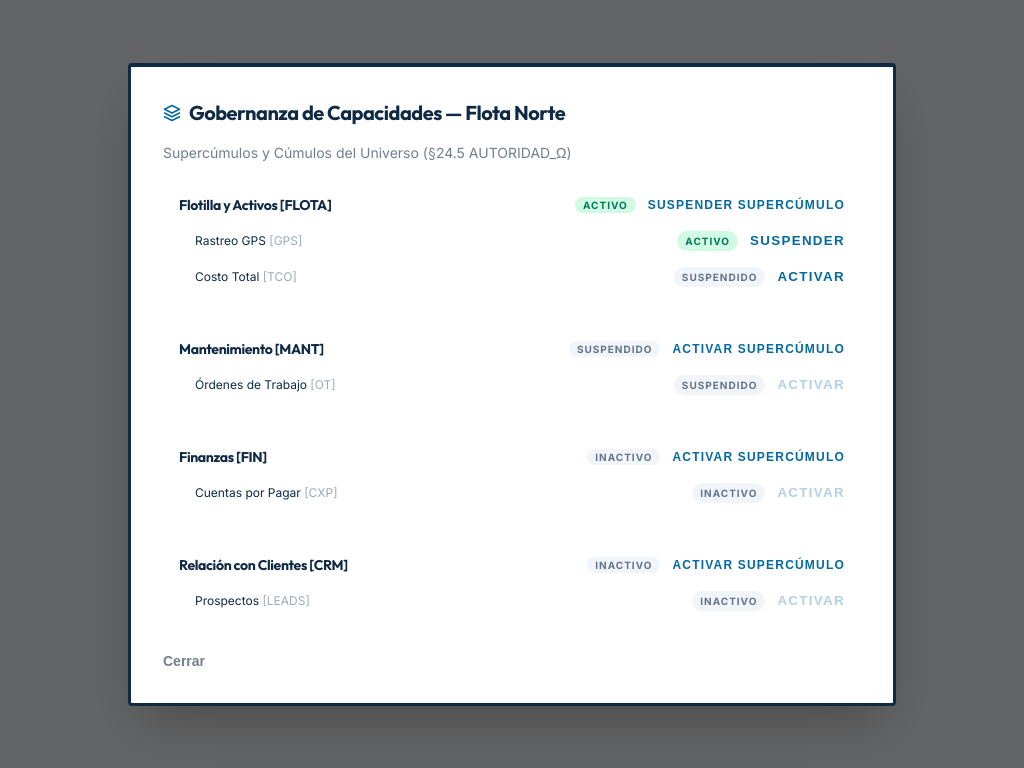
Test case: UniverseCapabilitiesModal — en vuelo, errores y cierre › si la mutación falla, muestra el motivo y no avisa
Expected: the element with test id "capability-sc-FLOTA" is shown, [163,178,861,310]
Click the button with test id "capability-cluster-toggle-TCO" at (811, 276), box [777,269,845,284]
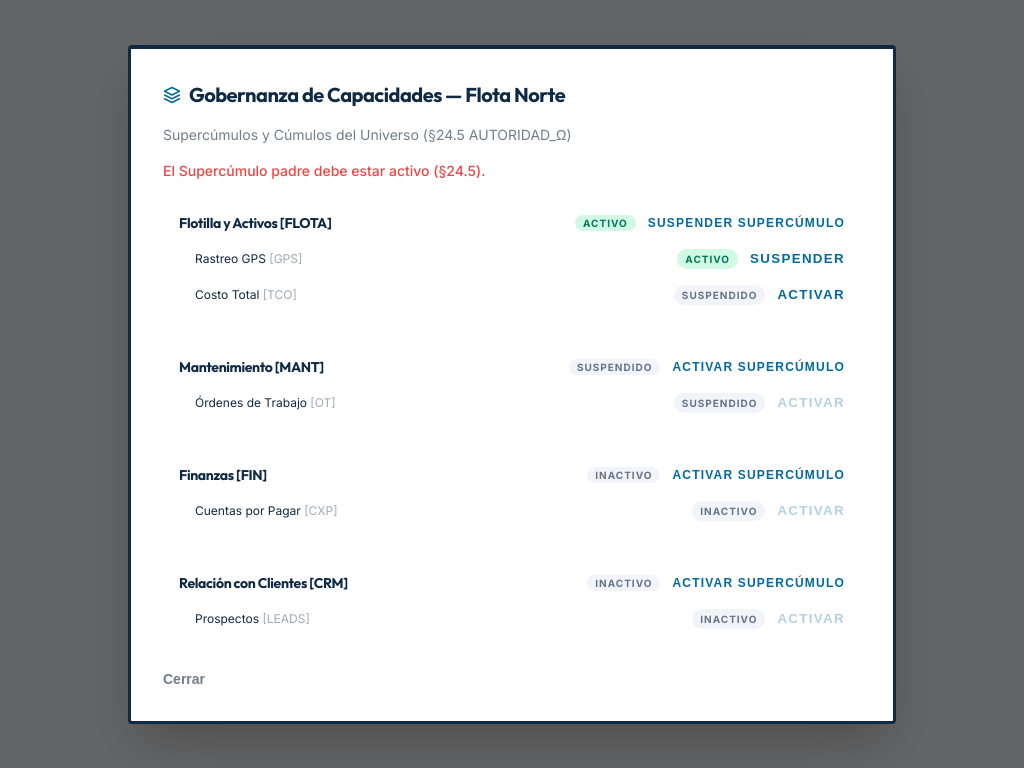
Now the message with test id "capabilities-error" reads "El Supercúmulo padre debe estar activo (§24.5).", box [163,162,485,178]
